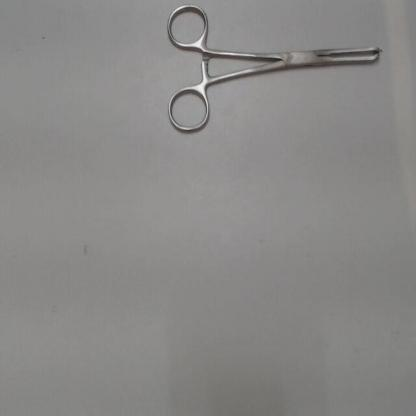Allis Tissue Forceps: (161, 0, 391, 146)
